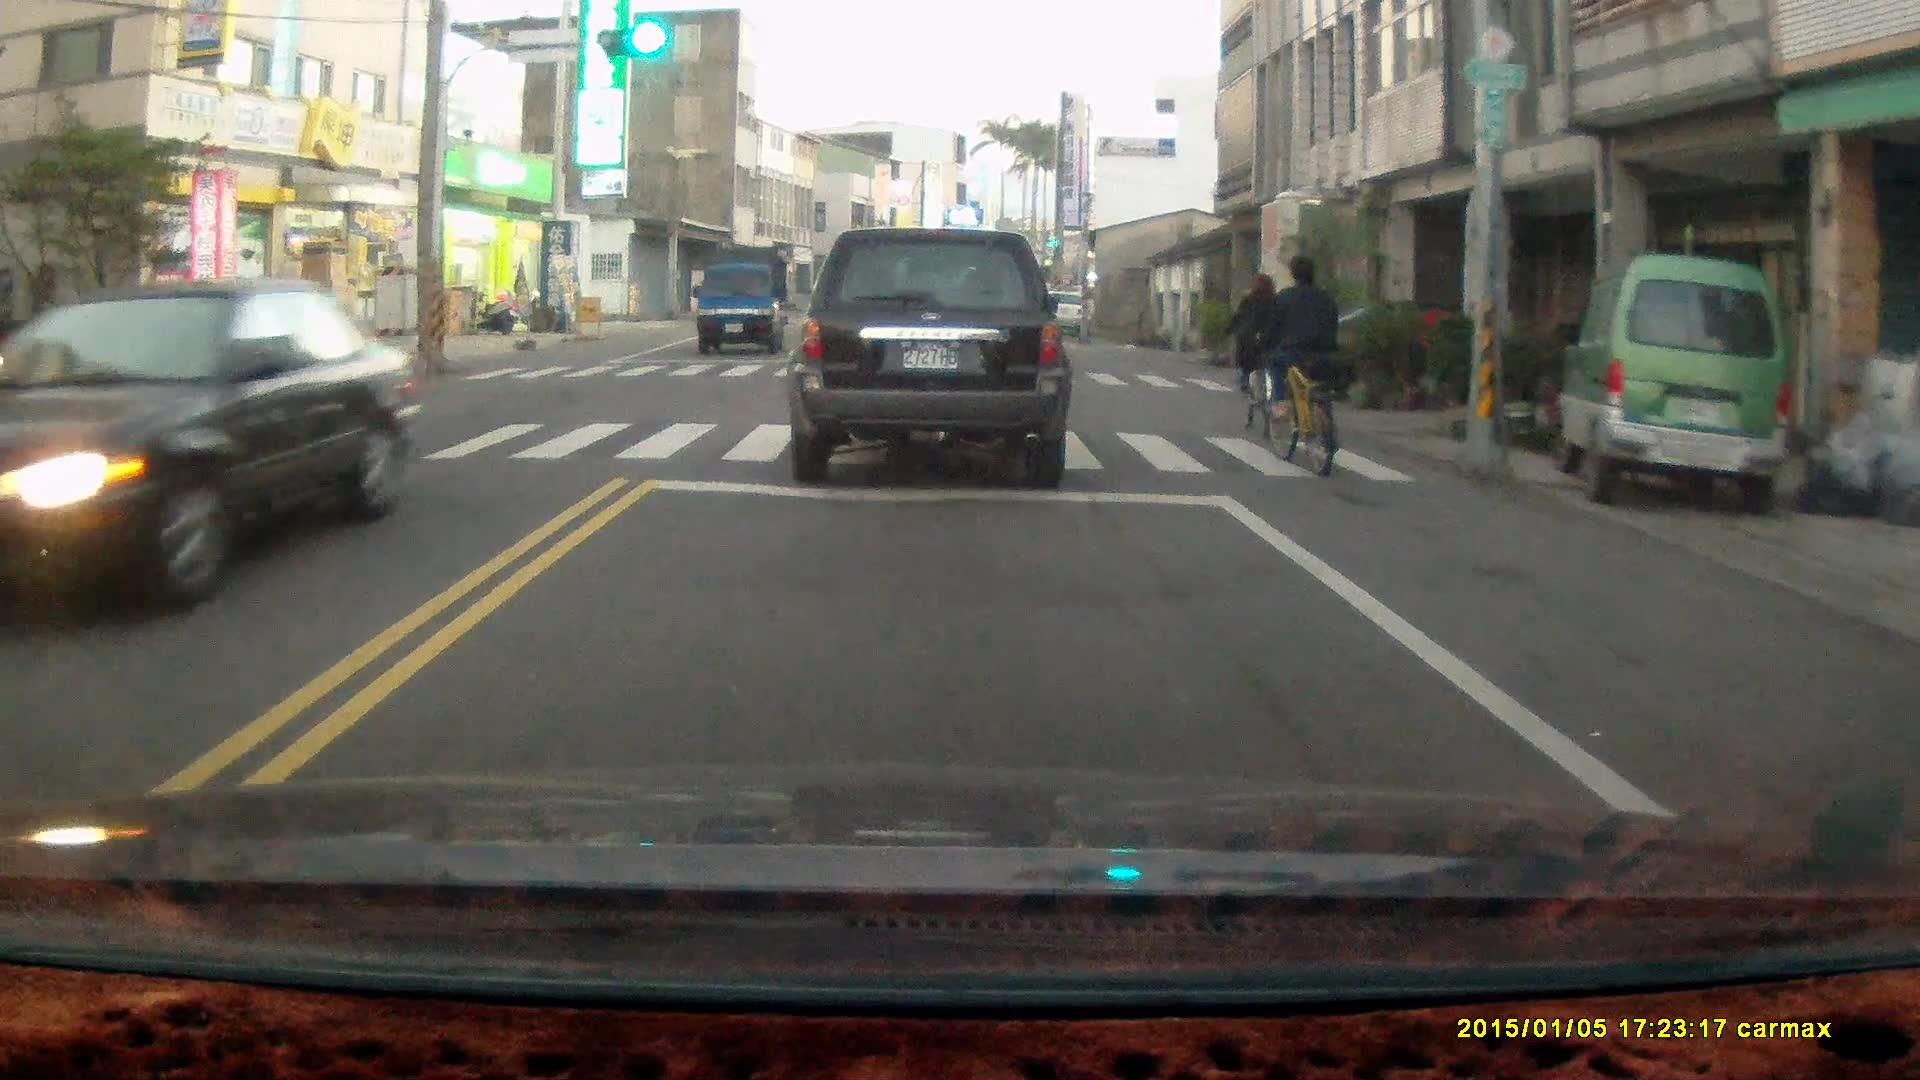rider: (1257, 253, 1345, 475), (1228, 276, 1288, 445)
vehicle: (5, 285, 417, 607), (789, 229, 1072, 493), (1570, 258, 1803, 523), (696, 252, 796, 359)
